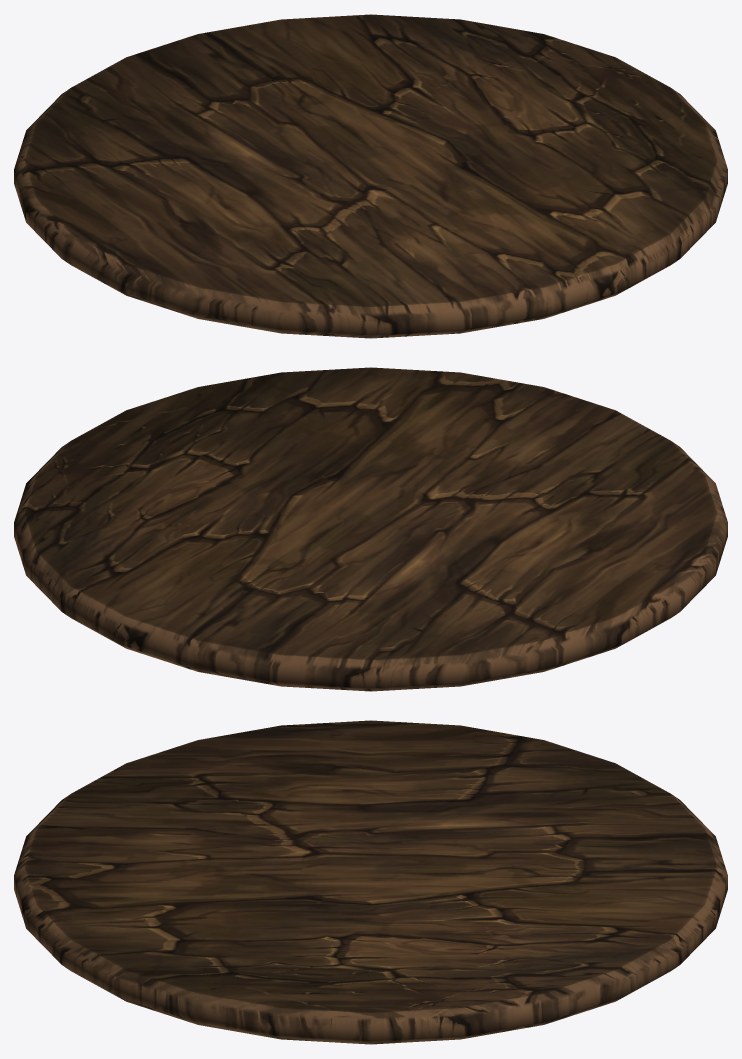
File: DE_House_Mod_Part_48.fbx
3 views of the same model, one above another, from view 1: azimuth 30°, elevation 25°; view 2: azimuth 150°, elevation 25°; view 3: azimuth 270°, elevation 25° (orthographic).
Visible parts, largest first — view 1: DE_House_Mod_Part_48; view 2: DE_House_Mod_Part_48; view 3: DE_House_Mod_Part_48.
Boxes of the visible parts, x1=… form: DE_House_Mod_Part_48: x1=14, y1=14, x2=727, y2=338; DE_House_Mod_Part_48: x1=14, y1=367, x2=727, y2=691; DE_House_Mod_Part_48: x1=14, y1=720, x2=727, y2=1044.
Size of the model in its own units: 6 by 0.2918 by 6.
